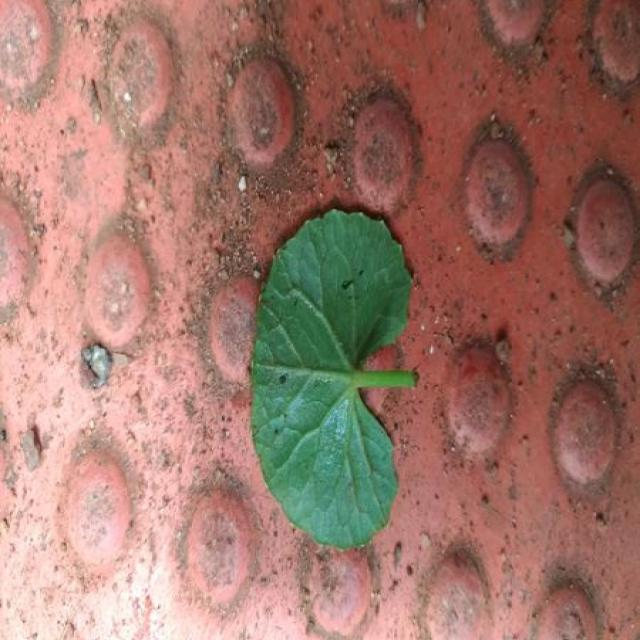bhrami: (252, 210, 417, 548)
defectedbhrami: (302, 271, 398, 323)
